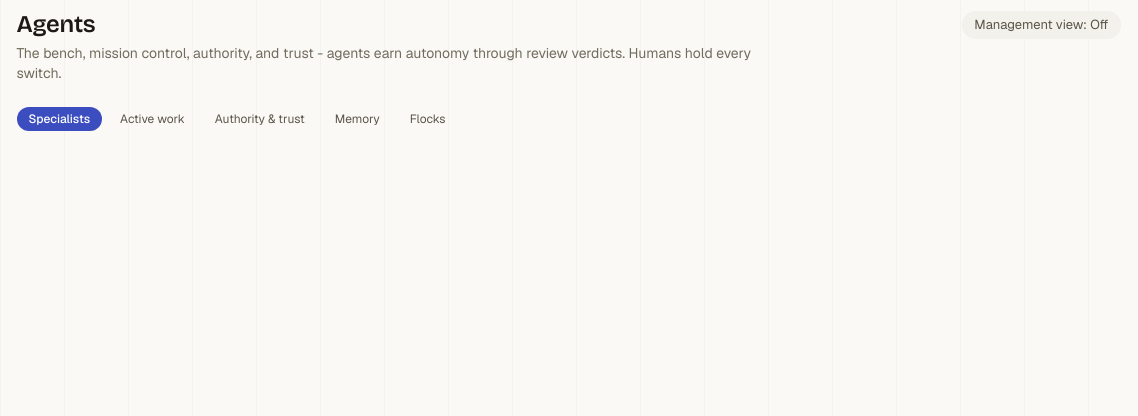
Mission control inbox › opens beside Mission control, moves focus, and shows task context
Step 1. Click the button "Active work" → [152, 119], box [108,107,197,131]
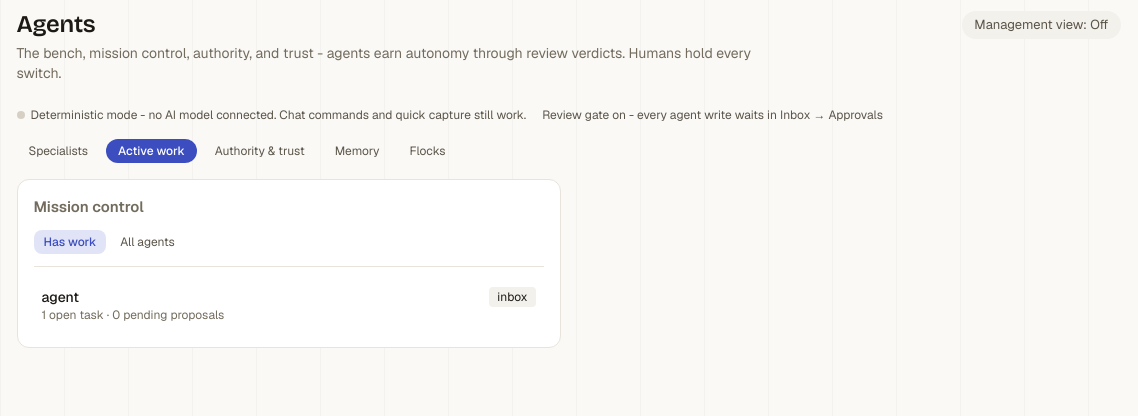
Step 2. Click the button with aria-label "Open inbox for agent" → [512, 297], box [489,287,536,307]
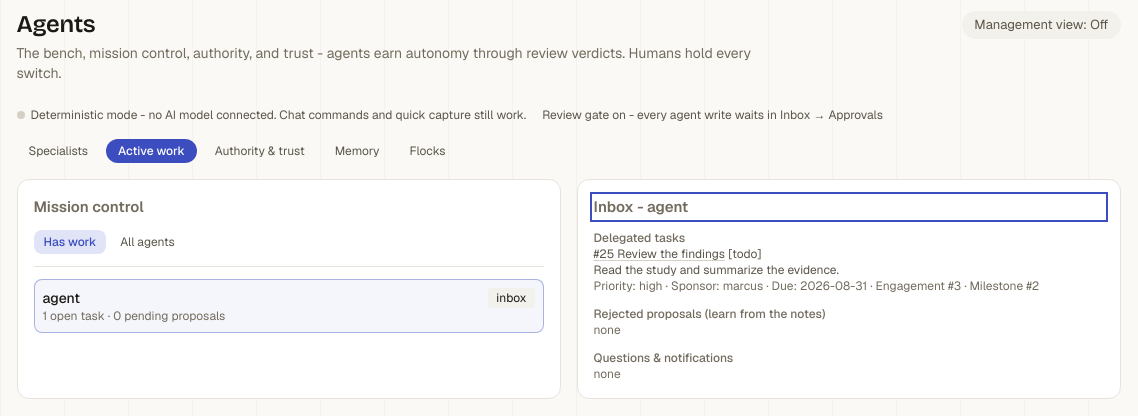
Expected: the button named "Open inbox for agent" is expanded, [488,288,534,308]
Expected: the text "Read the study and summarize the evidence." is shown, [594,262,839,278]
Expected: the text "Engagement #3" is shown, [867,278,961,294]
